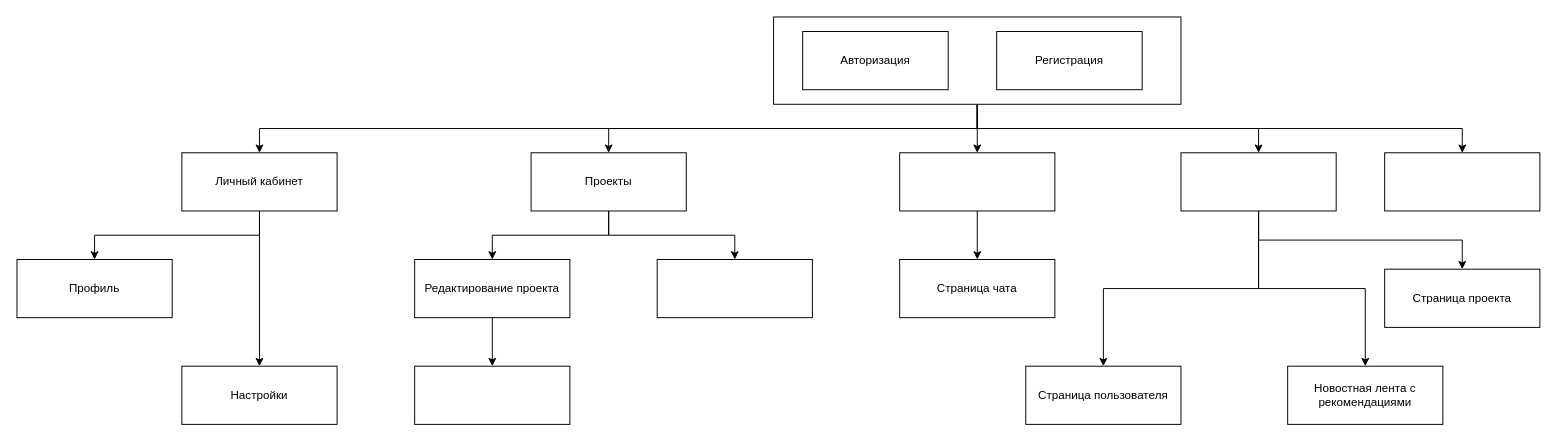
The diagram is 1557 pixels wide and 441 high, and some of its shapes have lost their labels. Each missing label, with the centre of its shape:
"База знаний" belongs at (1462,181).
"Добавление проекта" belongs at (734,288).
"Страница поиска" belongs at (1258,181).
"Удаление проекта" belongs at (492,394).
"Чат" belongs at (977,181).
